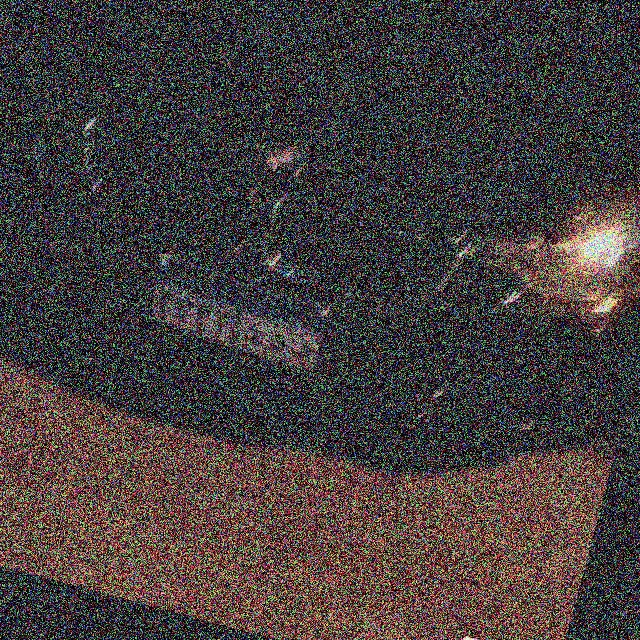License Plate: (132, 247, 340, 384)
